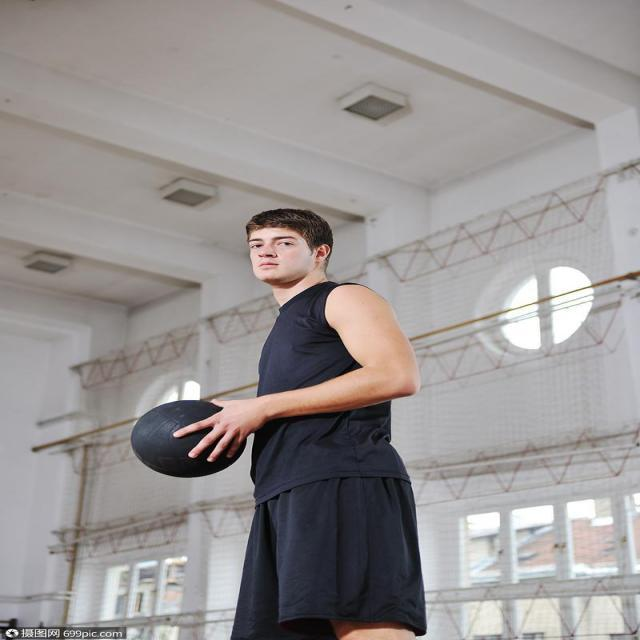rim: (130, 400, 242, 477)
